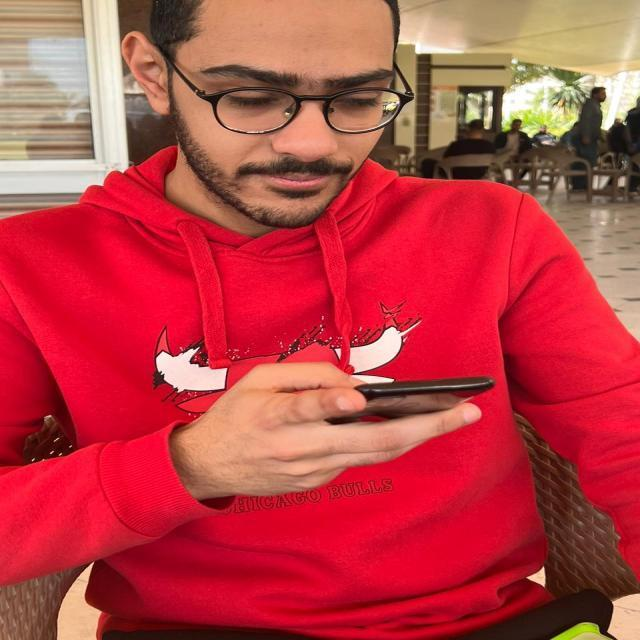phone: (344, 375, 498, 421)
